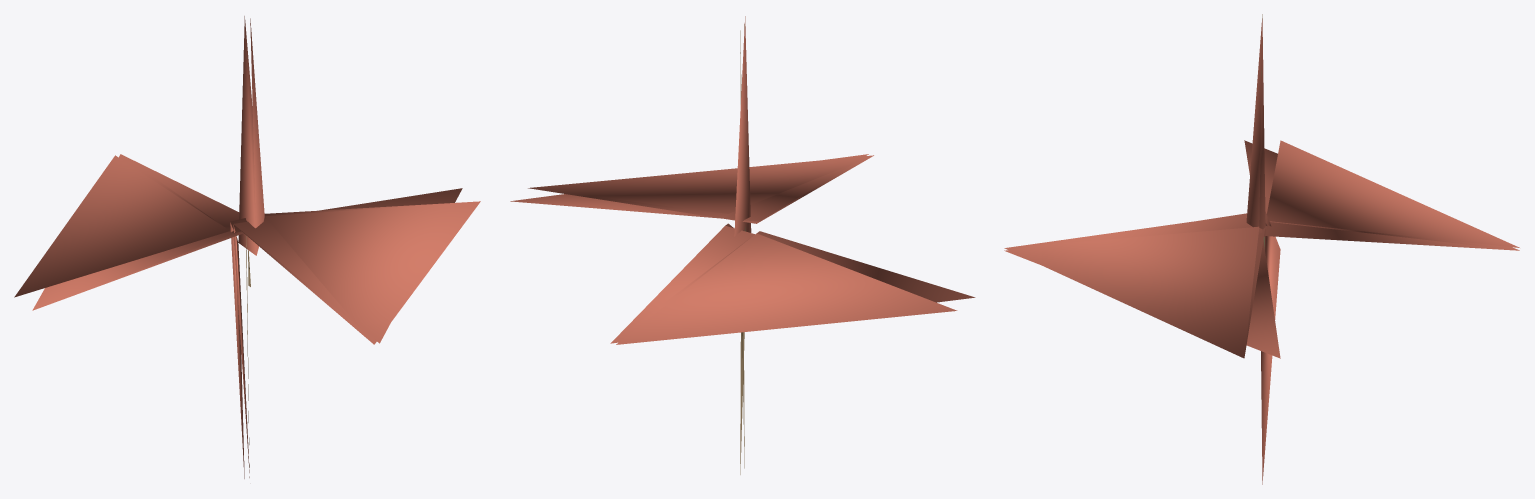
The model's file is equip_weapon_dragon_pickaxe.glb.
3 renders of one model, left to right at view 1: azimuth 30°, elevation 25°; view 2: azimuth 150°, elevation 25°; view 3: azimuth 270°, elevation 25°, orthographic.
Visible parts, largest first — view 1: equip_weapon_dragon_pickaxe; view 2: equip_weapon_dragon_pickaxe; view 3: equip_weapon_dragon_pickaxe.
Boxes of the visible parts, bbox=[...] form: equip_weapon_dragon_pickaxe: bbox=[14, 16, 480, 478]; equip_weapon_dragon_pickaxe: bbox=[510, 16, 975, 474]; equip_weapon_dragon_pickaxe: bbox=[1004, 14, 1519, 484].
Bounding box in the file's own units: 2 × 2 × 2.
